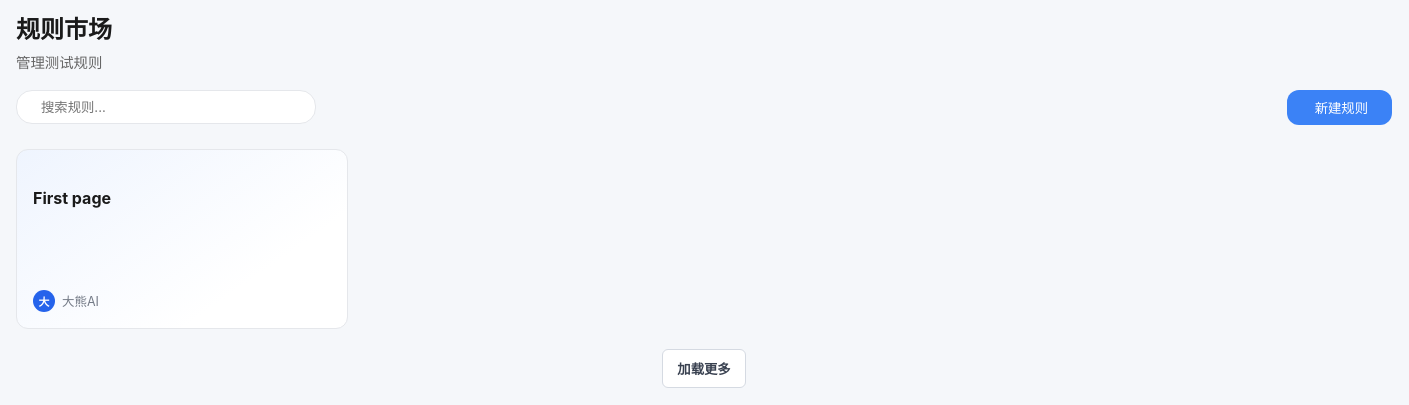
Test: ResourceCatalogPage › loads the next cursor without replacing existing items
Click the button "加载更多" at (704, 368), box [662,349,746,388]
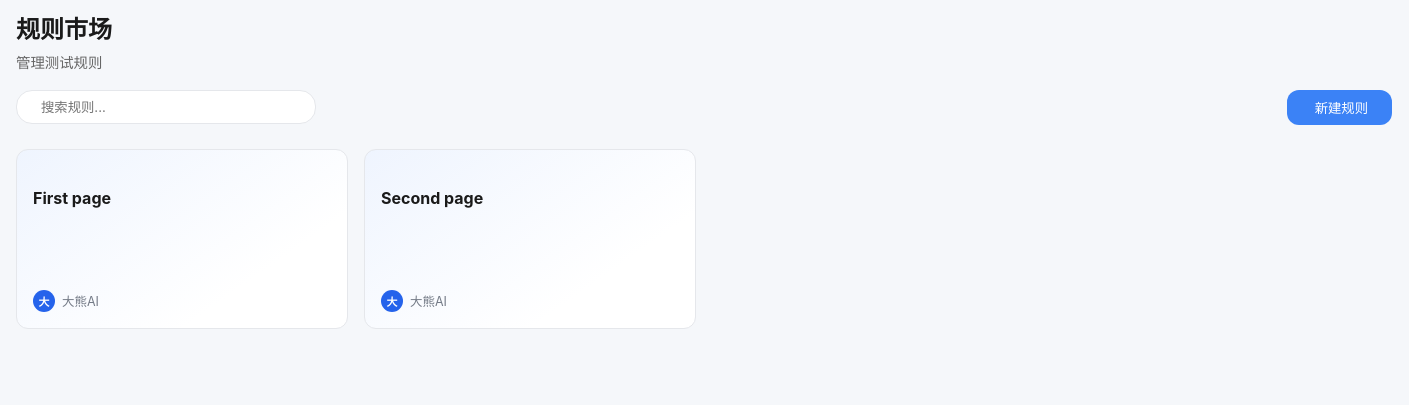
Expected: the text "First page" is shown, [33,188,111,208]
Expected: the text "Second page" is shown, [381,188,483,208]
